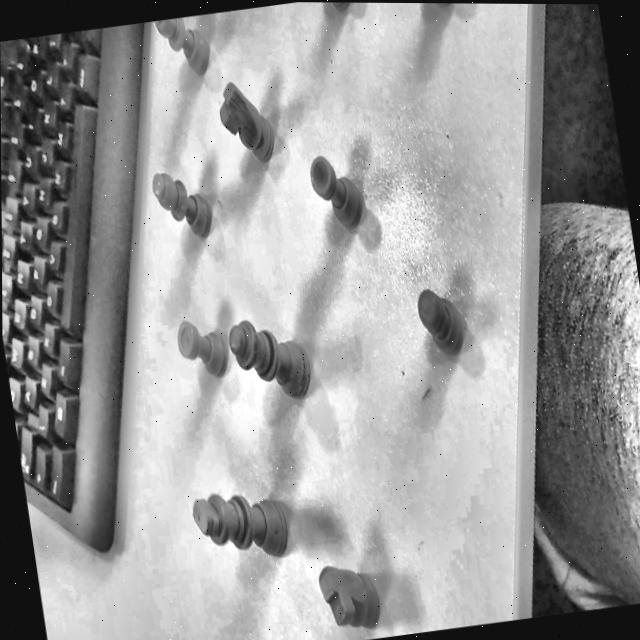white-bishop: (146, 152, 226, 251), (143, 15, 210, 91)
white-king: (166, 447, 300, 595)
white-knight: (205, 62, 279, 172), (312, 552, 389, 640)
white-pawn: (404, 249, 485, 366)
white-queen: (225, 296, 320, 407)
white-rook: (296, 128, 379, 254), (166, 314, 233, 387)
